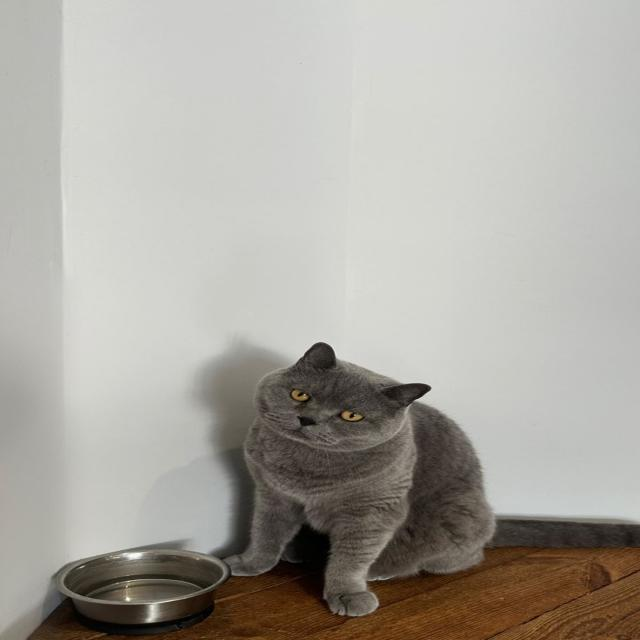british shorthair: (0, 165, 610, 640)
